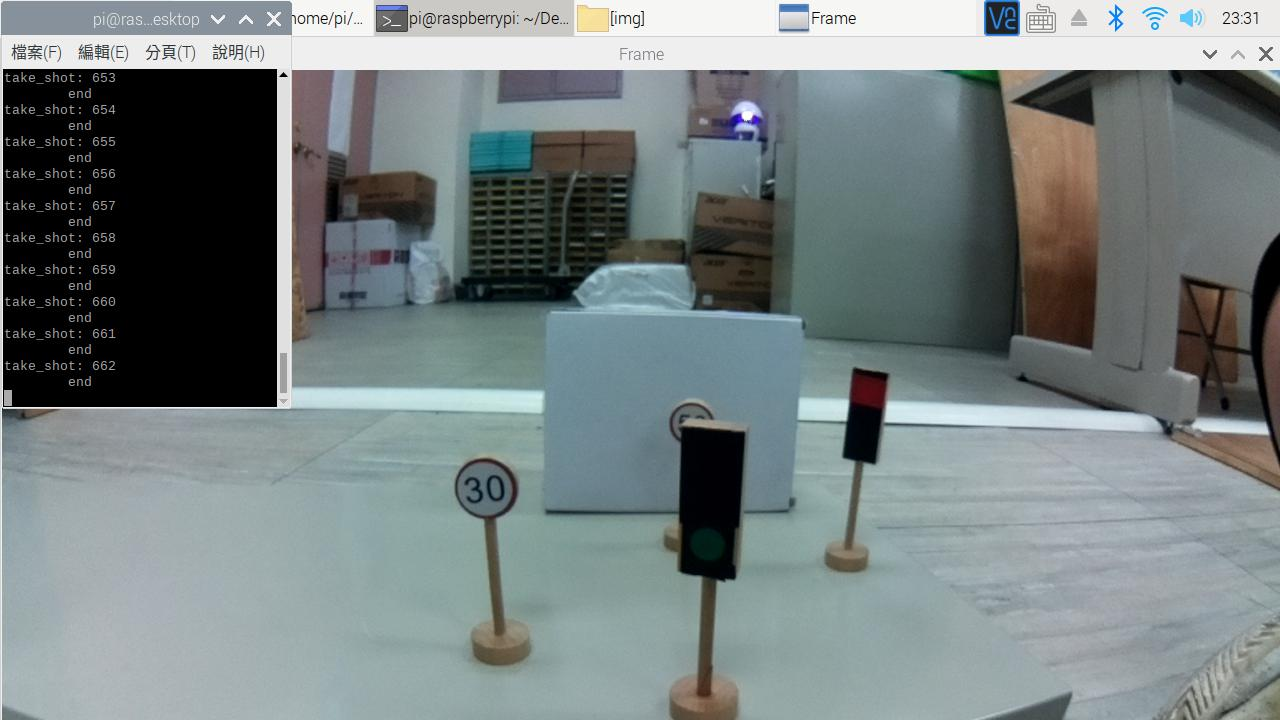Green: (666, 411, 755, 590)
Red: (839, 359, 899, 479)
Speed30: (447, 449, 534, 526)
